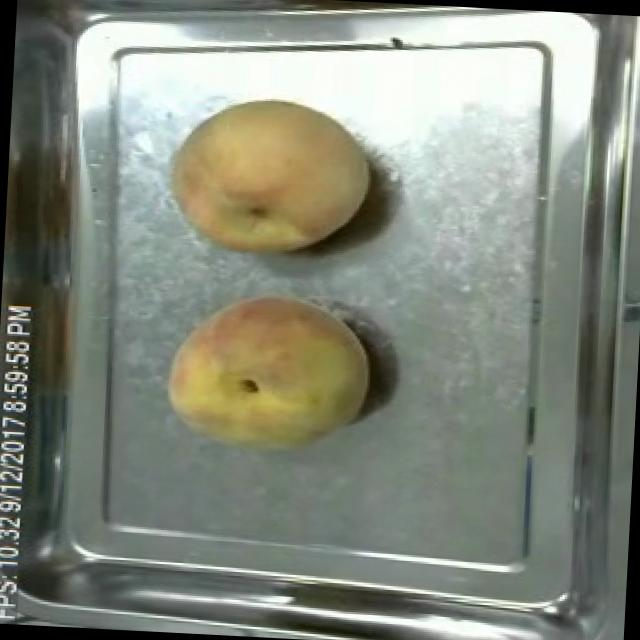Fruit: (154, 280, 378, 469), (159, 85, 382, 268)
